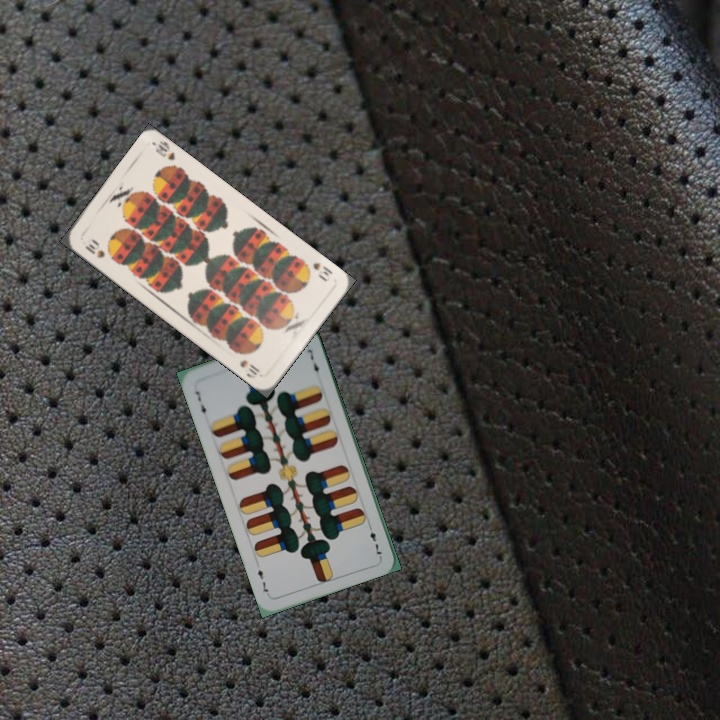E7: (364, 520, 384, 559), (191, 387, 209, 421)
S10: (299, 257, 335, 284), (80, 235, 107, 261)
